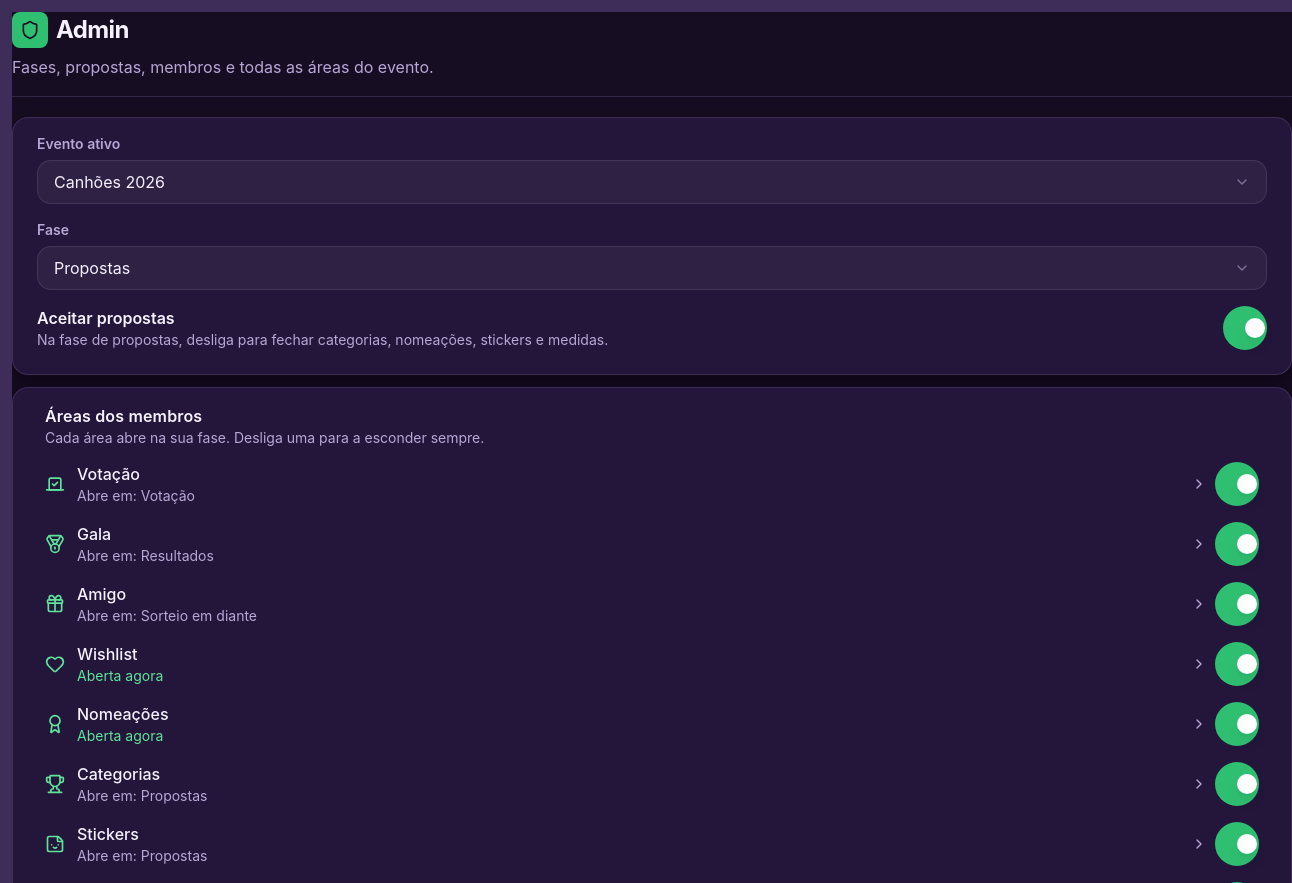
Test case: CanhoesAdminModule — event settings › switches an area off
The width and height of the screenshot is (1292, 883).
Click the switch named "Wishlist ligada" at coordinates (1237, 664), box [1215, 642, 1259, 686]
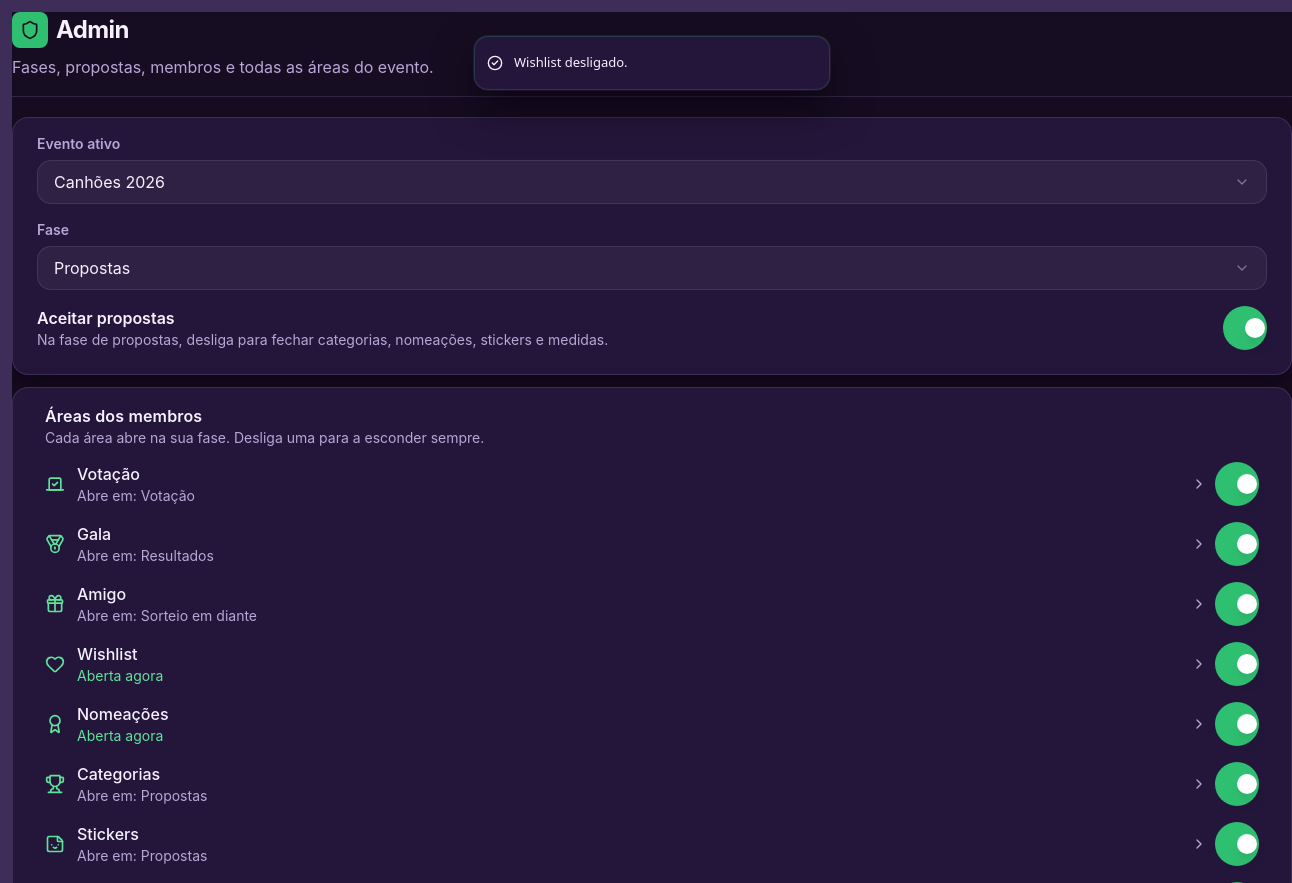
Result: the text "Wishlist desligado." is shown at [514, 53, 628, 72]
